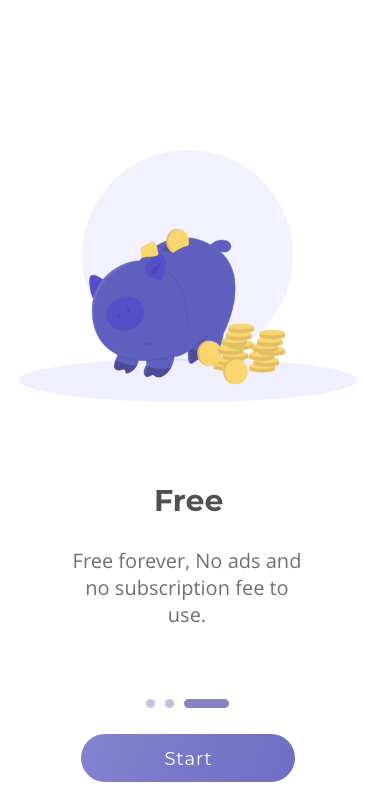Image: (19, 150, 358, 404)
PageIndicator: (146, 698, 230, 709)
Text: (74, 552, 301, 623), (156, 489, 224, 512)
TextButton: (82, 734, 296, 783)
